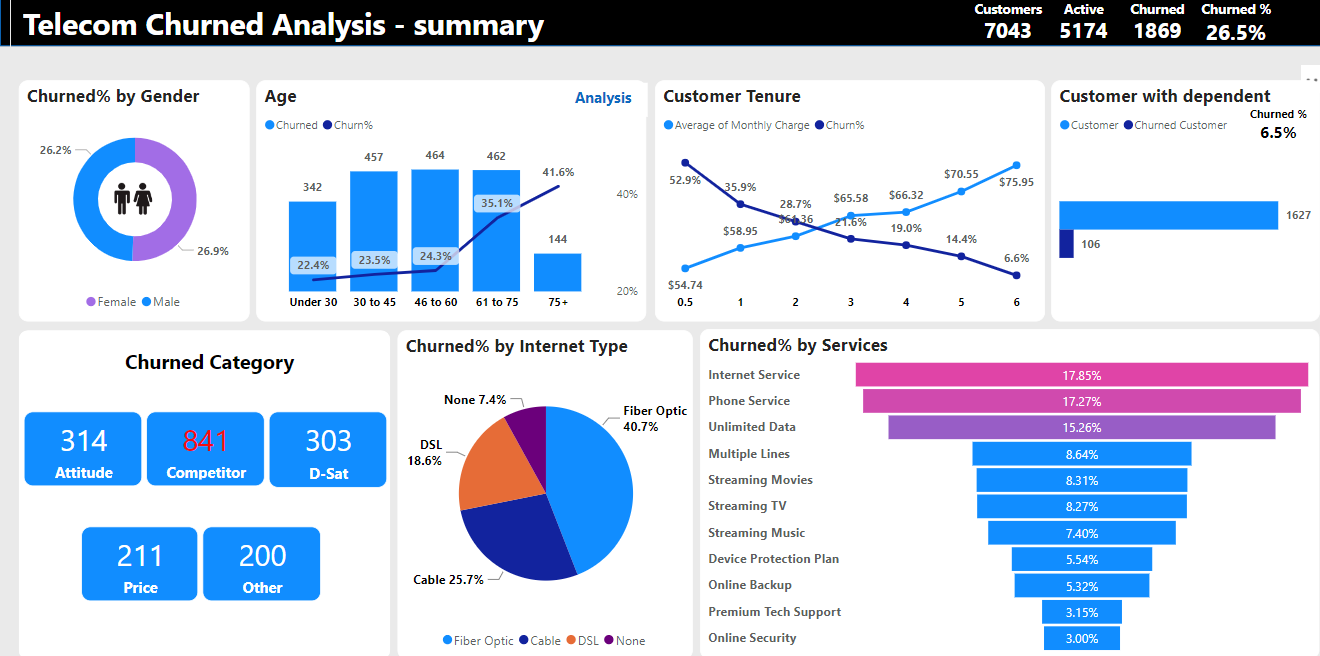

The dashboard page shown, as its layout file describes it:
{"tool":"powerbi","page":{"name":"Summary","canvas":[1440,753],"ordinal":0},"visuals":[{"type":"shape","box":[20.8,358.3,401.5,355.9],"z":0},{"type":"shape","box":[0,0,1440.3,51],"z":1000},{"type":"textbox","box":[10.9,0,1428.7,70.6],"z":2000},{"type":"card","title":"Churned %","fields":{"Values":["_measure.Churn%"]},"box":[1278.8,0,116.1,73.6],"z":3000},{"type":"lineChart","title":"Customer Tenure","fields":{"Category":["Telco_Churn_fact.Tenure Band"],"Y":["Avg(Telco_Churn_fact.Monthly Charge)"],"Y2":["_measure.Churn%"]},"box":[707.7,87.2,422,260.5],"z":4000},{"type":"card","title":"Churned","fields":{"Values":["Count(Telco_Churn_fact.CustomerID)"]},"box":[1166.2,0,169.9,69.4],"z":5000},{"type":"card","title":"Customers","fields":{"Values":["Count(Telco_Churn_fact.CustomerID)"]},"box":[1029.6,0,120.4,69.4],"z":6000},{"type":"funnel","title":"Churned% by Services","fields":{"Y":["Sum(Services_Dim_Transpose.Churn)"],"Category":["Services_Dim_Transpose.Attribute"]},"box":[757.4,357.1,669.8,357.1],"z":7000},{"type":"card","title":"Active","fields":{"Values":["_measure.Active_cust"]},"box":[1086.2,0,169.9,69.4],"z":8000},{"type":"donutChart","title":"Churned% by Gender","fields":{"Y":["_measure.Churn%"],"Category":["Demographics_Dim.Gender"]},"box":[20.4,87.9,249.6,260.5],"z":9000,"group":"g1"},{"type":"lineClusteredColumnComboChart","title":"Age","fields":{"Category":["Age_Group_Sort_Table.Age Group"],"Y2":["_measure.Churn%"],"Y":["Sum(Services_Dim.Churn Status)"]},"box":[277.6,87.9,422,260.5],"z":9000},{"type":"clusteredBarChart","title":"Customer with dependent","fields":{"Y":["CountNonNull(Telco_Churn_fact.CustomerID)","Sum(Telco_Churn_fact.Churn Value)"]},"box":[1136.4,87.2,290.4,260.5],"z":10000},{"type":"image","box":[119.4,189.7,50.2,52.9],"z":10000,"group":"g1"},{"type":"card","fields":{"Values":["CountNonNull(Status_Dim.Churn Category)"]},"box":[25.3,446.5,127.8,80.6],"z":11000},{"type":"group","id":"g1","title":"Group 1","box":[20.4,87.9,249.6,260.5],"z":12000},{"type":"card","fields":{"Values":["CountNonNull(Status_Dim.Churn Category)"]},"box":[157.6,446.5,127.8,80.6],"z":13000},{"type":"pieChart","title":"Churned% by Internet Type","fields":{"Category":["Services_Dim.Internet Type"],"Y":["_measure.Churn%"]},"box":[429.9,358.3,319.4,355.9],"z":14000},{"type":"card","fields":{"Values":["CountNonNull(Status_Dim.Churn Category)"]},"box":[290,446.5,127.8,82.1],"z":15000},{"type":"card","fields":{"Values":["CountNonNull(Status_Dim.Churn Category)"]},"box":[87.7,569.7,126.2,80.6],"z":16000},{"type":"card","title":"Other","fields":{"Values":["CountNonNull(Status_Dim.Churn Category)"]},"box":[218.5,569.7,127.8,80.6],"z":17000},{"type":"textbox","box":[31.4,372,390.9,50.2],"z":18000},{"type":"card","title":"Churned %","fields":{"Values":["_measure.Churn%"]},"box":[1336.5,115.8,91.4,62.6],"z":19000},{"type":"textbox","box":[615.7,90,84.3,37.1],"z":20000},{"type":"shape","box":[615.7,90,82.9,37.1],"z":21000}]}

Visuals, with their boxes on the page's 1440x753 design canvas (x1, y1, x2, y2). These are canvas units, not pixel positions in the 1320x656 screenshot, which may show the page scaled, cropped or inside an application window:
shape: <box>21,358,422,714</box>
shape: <box>0,0,1440,51</box>
textbox: <box>11,0,1440,71</box>
"Churned %" card: <box>1279,0,1395,74</box>
"Customer Tenure" lineChart: <box>708,87,1130,348</box>
"Churned" card: <box>1166,0,1336,69</box>
"Customers" card: <box>1030,0,1150,69</box>
"Churned% by Services" funnel: <box>757,357,1427,714</box>
"Active" card: <box>1086,0,1256,69</box>
"Churned% by Gender" donutChart: <box>20,88,270,348</box>
"Age" lineClusteredColumnComboChart: <box>278,88,700,348</box>
"Customer with dependent" clusteredBarChart: <box>1136,87,1427,348</box>
image: <box>119,190,170,243</box>
card - CountNonNull(Status_Dim.Churn Category): <box>25,446,153,527</box>
"Group 1" group: <box>20,88,270,348</box>
card - CountNonNull(Status_Dim.Churn Category): <box>158,446,285,527</box>
"Churned% by Internet Type" pieChart: <box>430,358,749,714</box>
card - CountNonNull(Status_Dim.Churn Category): <box>290,446,418,529</box>
card - CountNonNull(Status_Dim.Churn Category): <box>88,570,214,650</box>
"Other" card: <box>218,570,346,650</box>
textbox: <box>31,372,422,422</box>
"Churned %" card: <box>1336,116,1428,178</box>
textbox: <box>616,90,700,127</box>
shape: <box>616,90,699,127</box>
